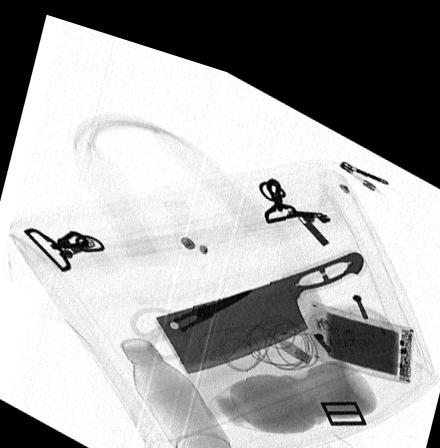Knife: (154, 229, 362, 363)
Powerbank: (305, 280, 413, 359)
Scissors: (128, 269, 253, 353)
